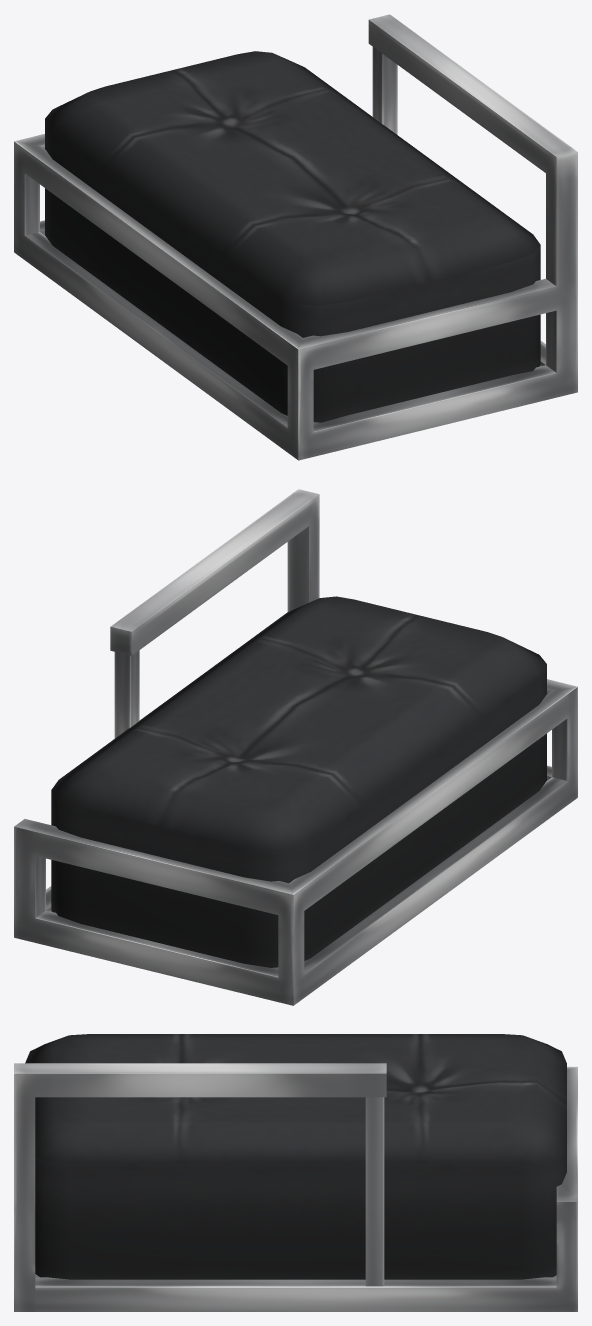
Rendered from MidcenturyBedBlack_HD.fbx.
3 renders of one model, top to bottom at view 1: azimuth 30°, elevation 25°; view 2: azimuth 150°, elevation 25°; view 3: azimuth 270°, elevation 25°, orthographic.
Parts seen in each view (by area): view 1: MidcenturyBedBlack; view 2: MidcenturyBedBlack; view 3: MidcenturyBedBlack.
Part boxes in pixels (x1,y1,x2,y2): MidcenturyBedBlack: (14,14,577,460); MidcenturyBedBlack: (14,489,577,1005); MidcenturyBedBlack: (14,1034,577,1311).
Size of the model in its own units: 1.06 by 0.8748 by 1.88.
